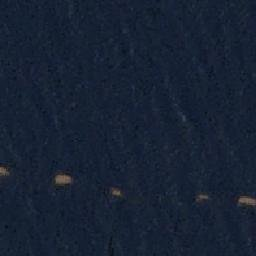debris: (53, 172, 74, 186), (235, 194, 256, 206), (112, 187, 124, 199), (195, 192, 208, 202), (1, 163, 9, 178)
